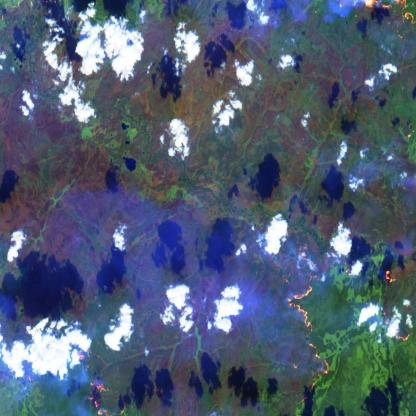fire: (279, 239, 335, 416), (0, 340, 128, 416), (380, 267, 416, 358), (352, 0, 416, 43)
